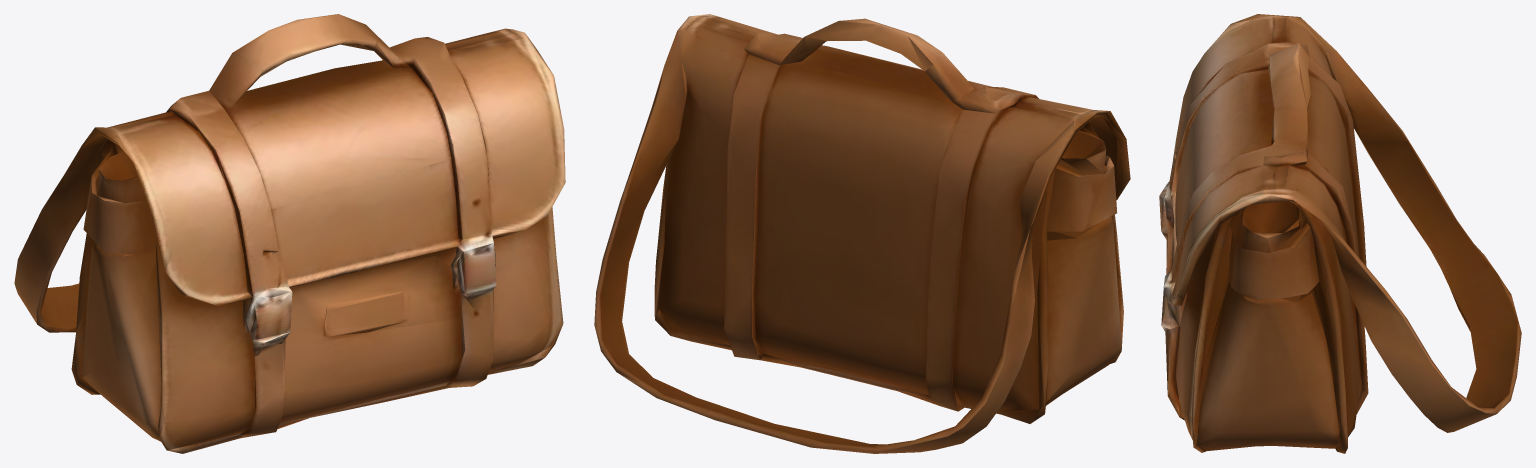
The model's file is mailbag.glb.
3 views of the same model, side by side, from view 1: azimuth 30°, elevation 25°; view 2: azimuth 150°, elevation 25°; view 3: azimuth 270°, elevation 25° (orthographic). The views are drawn at different scales.
Visible parts, largest first — view 1: model; view 2: model; view 3: model.
Boxes of the visible parts, x1,y1,x2,y2 form: model: [14, 14, 565, 453]; model: [594, 14, 1130, 453]; model: [1159, 14, 1521, 453].
Bounding box in the file's own units: 1.89 × 1.42 × 1.45.
Materials: 1 (1 with a texture image).
